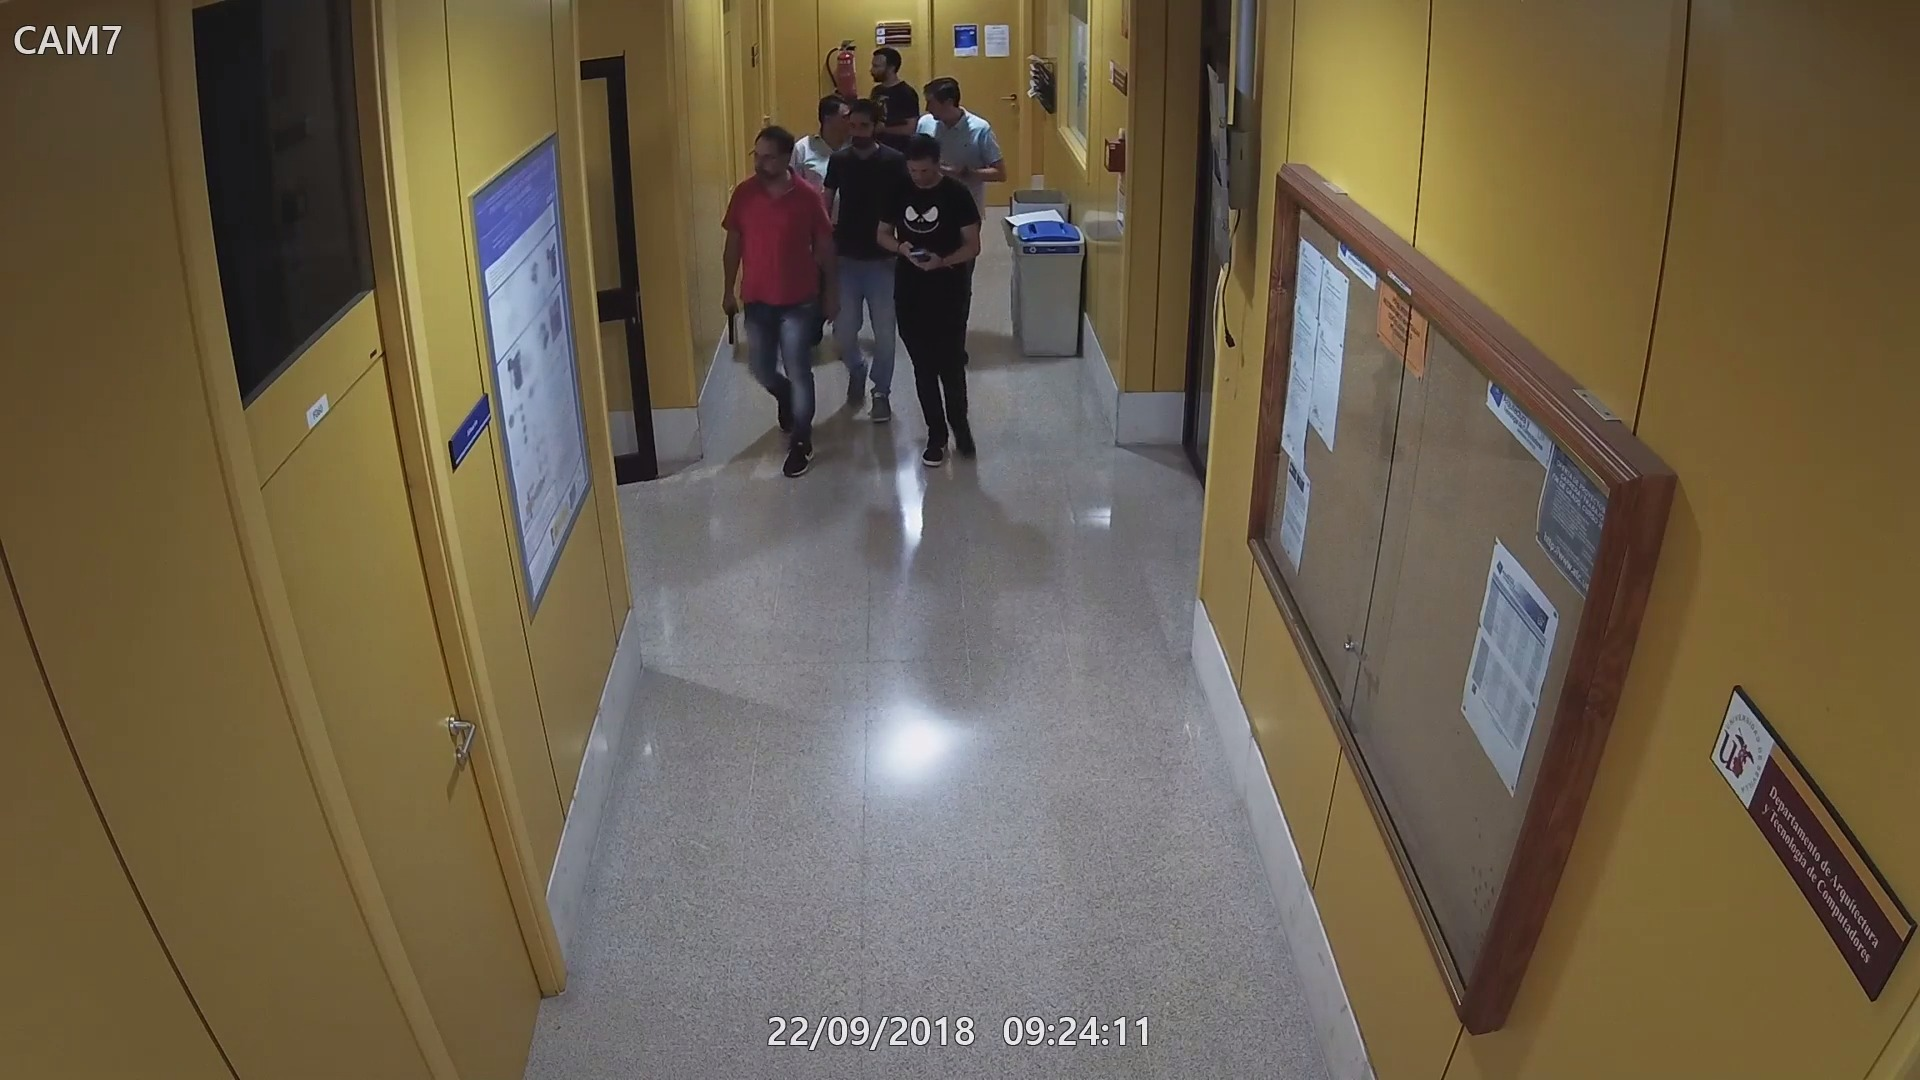Handgun: (719, 294, 745, 347)
